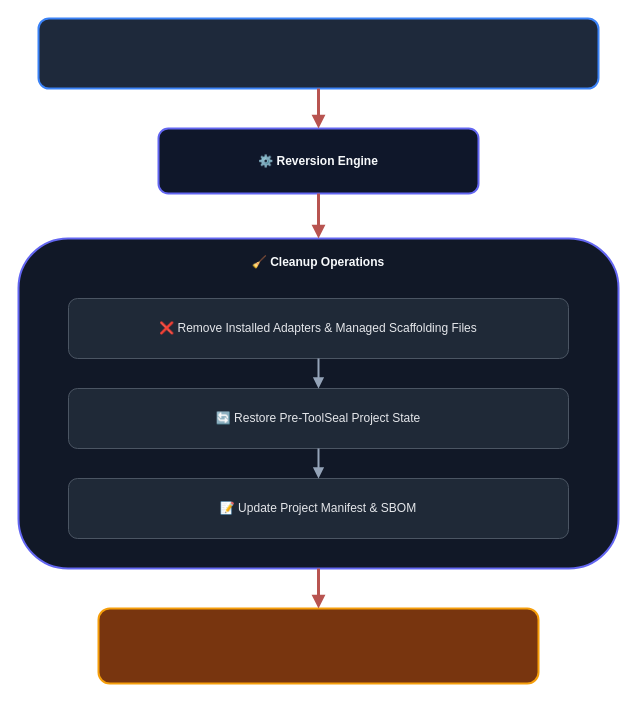
Some shapes in this 636 by 701 pixel diagram are drawn without their labels. Each missing label, with the centre of its shape:
✅ Cleaned / Restored Project Tree: (318,645)
💻 User Command: toolseal revert -d --force --dry-run --json: (318,53)
